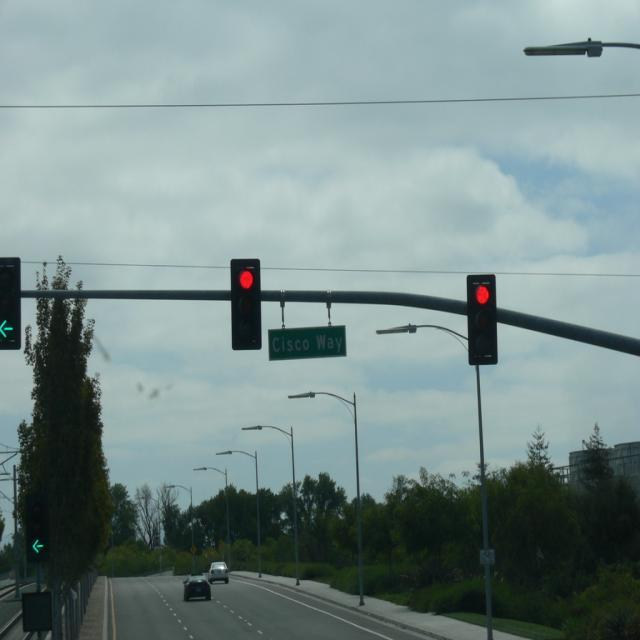traffic light: (466, 271, 500, 369), (231, 258, 262, 349)
